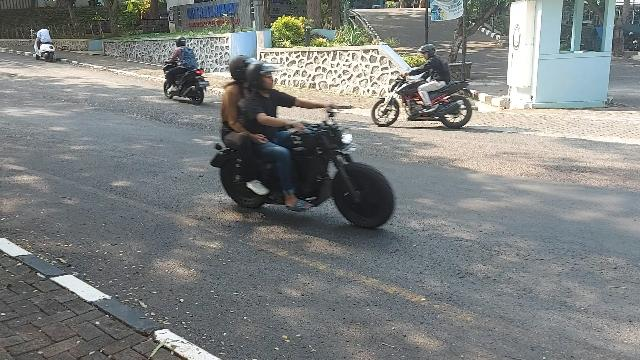helm: (247, 63, 285, 90), (420, 45, 437, 59), (176, 37, 186, 47)
motor: (211, 109, 395, 231), (374, 73, 475, 129), (164, 60, 211, 107)
